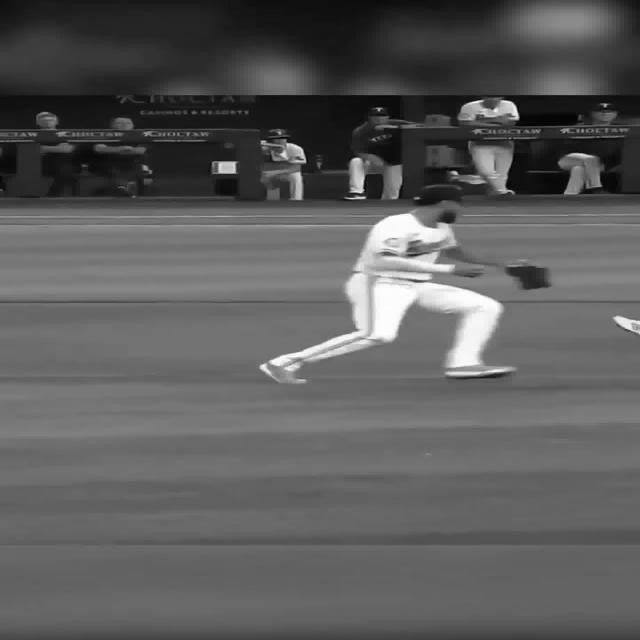baseball_glove: (504, 264, 552, 290)
shoe: (258, 360, 307, 384), (444, 363, 516, 378), (611, 315, 639, 335), (342, 192, 366, 200), (486, 189, 514, 195), (588, 187, 611, 193)
